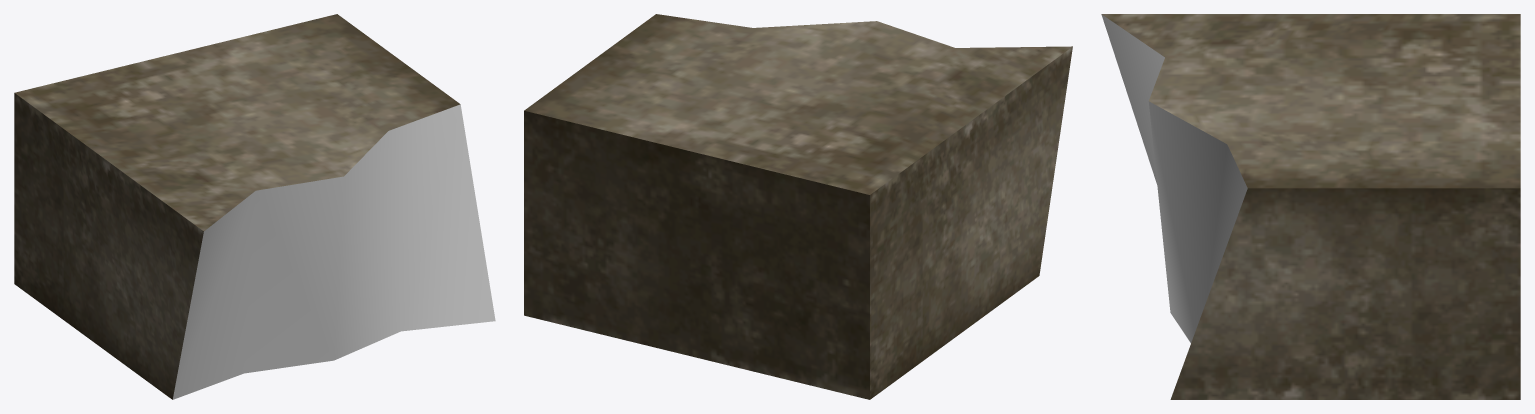
Rendered from brick_broken02.dae.
3 views of the same model, side by side, from view 1: azimuth 30°, elevation 25°; view 2: azimuth 150°, elevation 25°; view 3: azimuth 270°, elevation 25° (orthographic). The views are drawn at different scales.
Parts seen in each view (by area): view 1: polySurface1, polySurface6; view 2: polySurface1; view 3: polySurface1, polySurface6.
Boxes of the visible parts, left/top/right/bottom form: polySurface1: left=14, top=14, right=460, bottom=399; polySurface6: left=172, top=104, right=495, bottom=399; polySurface1: left=524, top=14, right=1072, bottom=399; polySurface1: left=1102, top=14, right=1520, bottom=399; polySurface6: left=1101, top=14, right=1247, bottom=342.
Bounding box in the file's own units: 0.3682 × 0.2084 × 0.3744.
